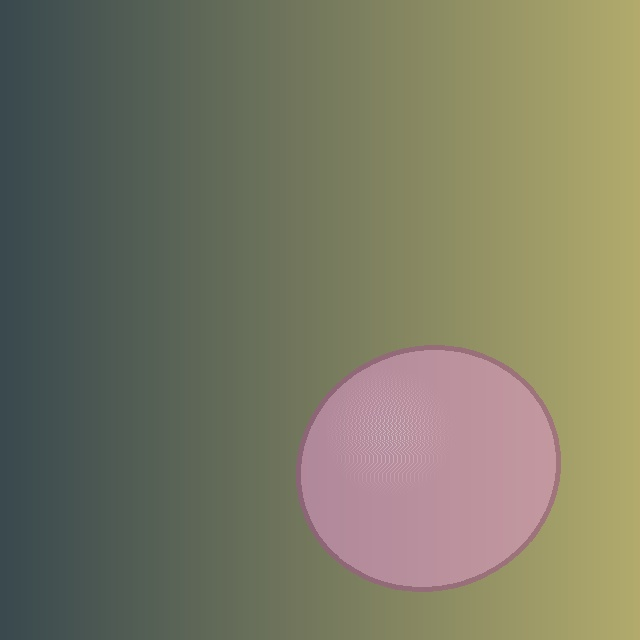lens: (298, 347, 558, 589)
